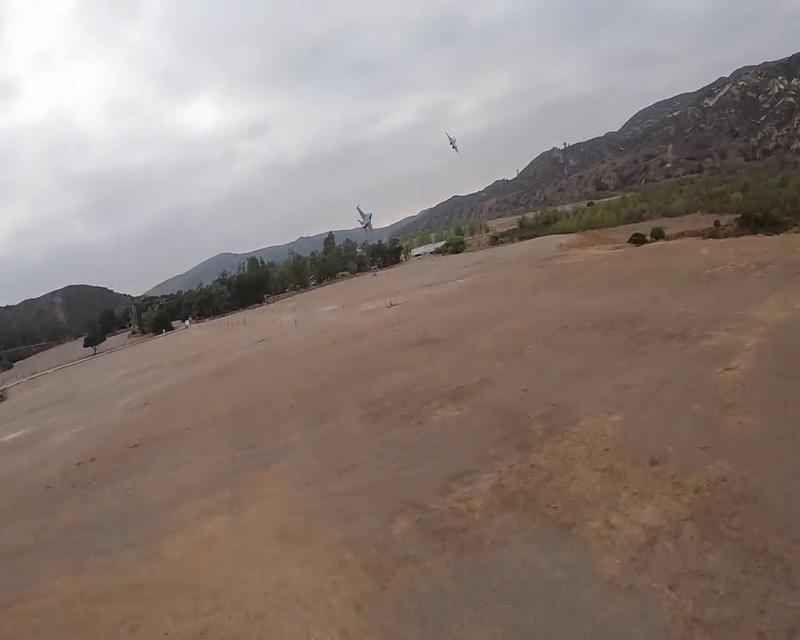UAV: (355, 204, 375, 235), (444, 132, 461, 156)
